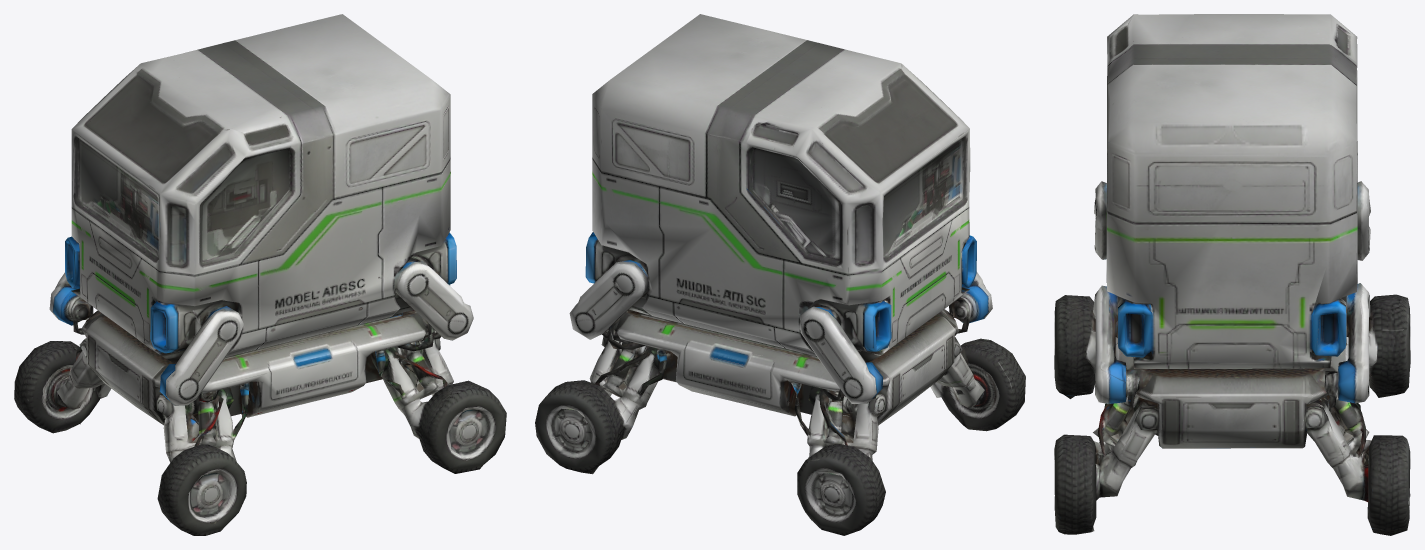
The model's file is Transport_Robot.fbx.
3 renders of one model, left to right at view 1: azimuth 30°, elevation 25°; view 2: azimuth 150°, elevation 25°; view 3: azimuth 270°, elevation 25°, orthographic. The views are drawn at different scales.
Parts seen in each view (by area): view 1: Mesh1.0; view 2: Mesh1.0; view 3: Mesh1.0.
Boxes of the visible parts, x1,y1,x2,y2 form: Mesh1.0: (14, 14, 506, 535); Mesh1.0: (535, 14, 1025, 535); Mesh1.0: (1054, 14, 1410, 535).
Size of the model in its own units: 149 by 154 by 123.
Materials: 1 (1 with a texture image).
